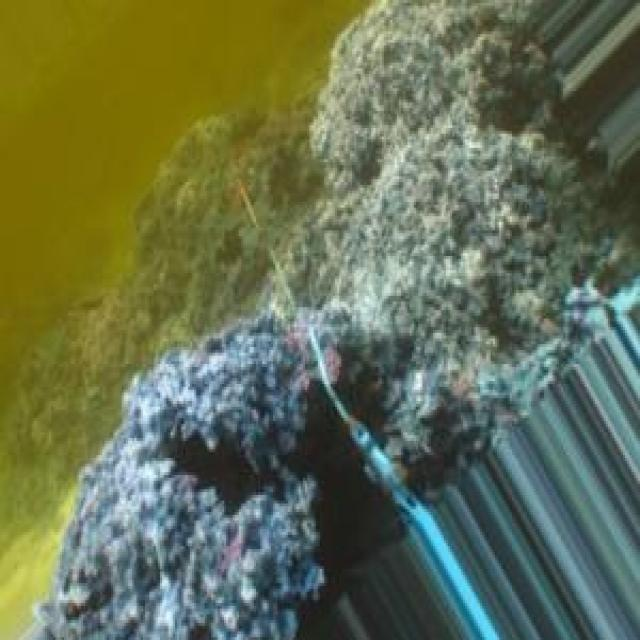Healthy: (289, 89, 620, 448), (42, 317, 325, 640), (116, 64, 325, 382)
